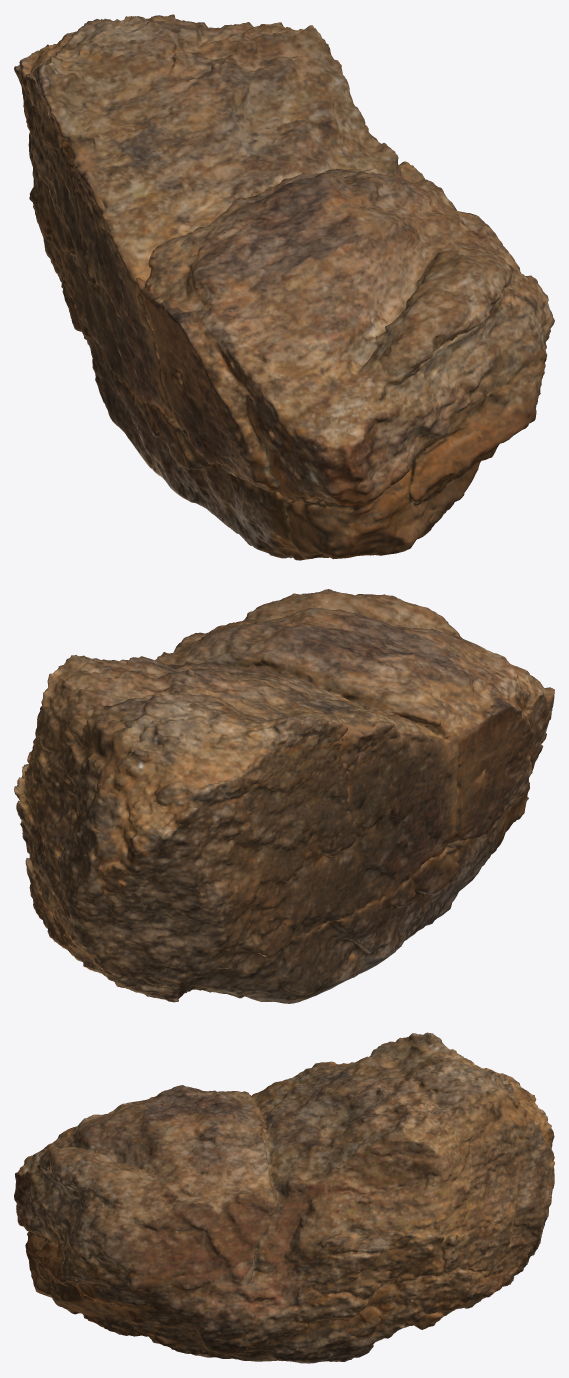
The model's file is boulder.glb.
3 renders of one model, top to bottom at view 1: azimuth 30°, elevation 25°; view 2: azimuth 150°, elevation 25°; view 3: azimuth 270°, elevation 25°, orthographic. The views are drawn at different scales.
Parts seen in each view (by area): view 1: namaqualand_boulder_06; view 2: namaqualand_boulder_06; view 3: namaqualand_boulder_06.
Part boxes in pixels (<box>): namaqualand_boulder_06: <box>14,14,554,560</box>; namaqualand_boulder_06: <box>14,589,554,1003</box>; namaqualand_boulder_06: <box>14,1032,554,1363</box>.
Bounding box in the file's own units: 3.17 × 3.06 × 5.69.
1 material, 1 textured.
